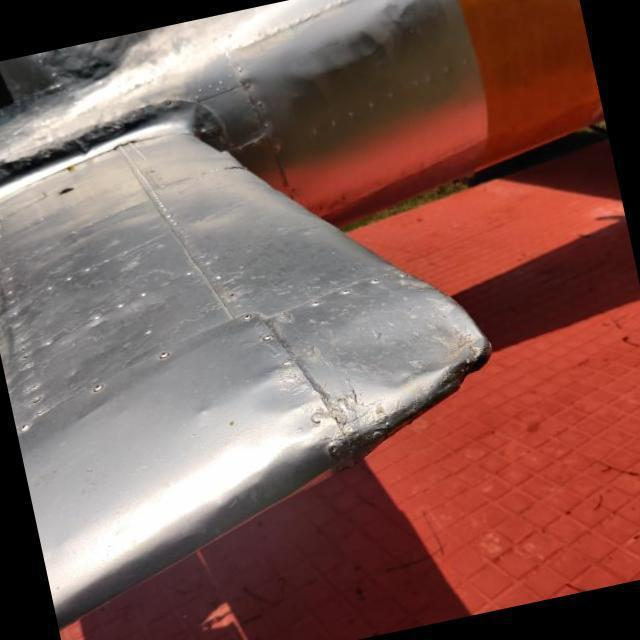Dent: (306, 258, 520, 428)
